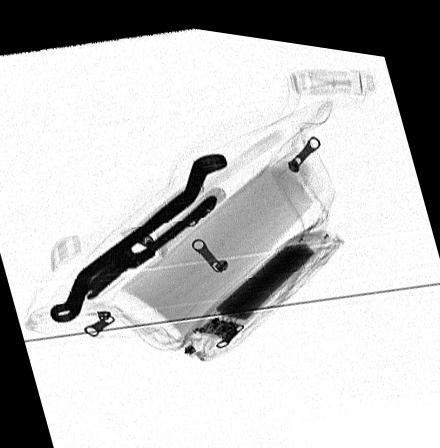Pliers: (79, 182, 217, 296)
Powerbank: (192, 221, 334, 334)
Wrench: (47, 147, 226, 323)
